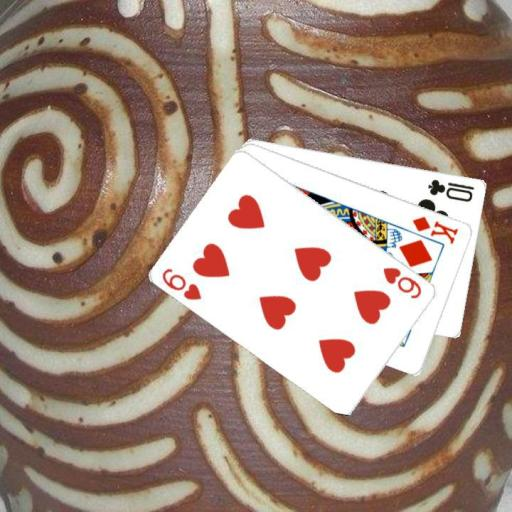10C: (425, 176, 477, 203)
6H: (159, 265, 204, 302), (380, 264, 424, 301)
KD: (409, 213, 460, 245)
